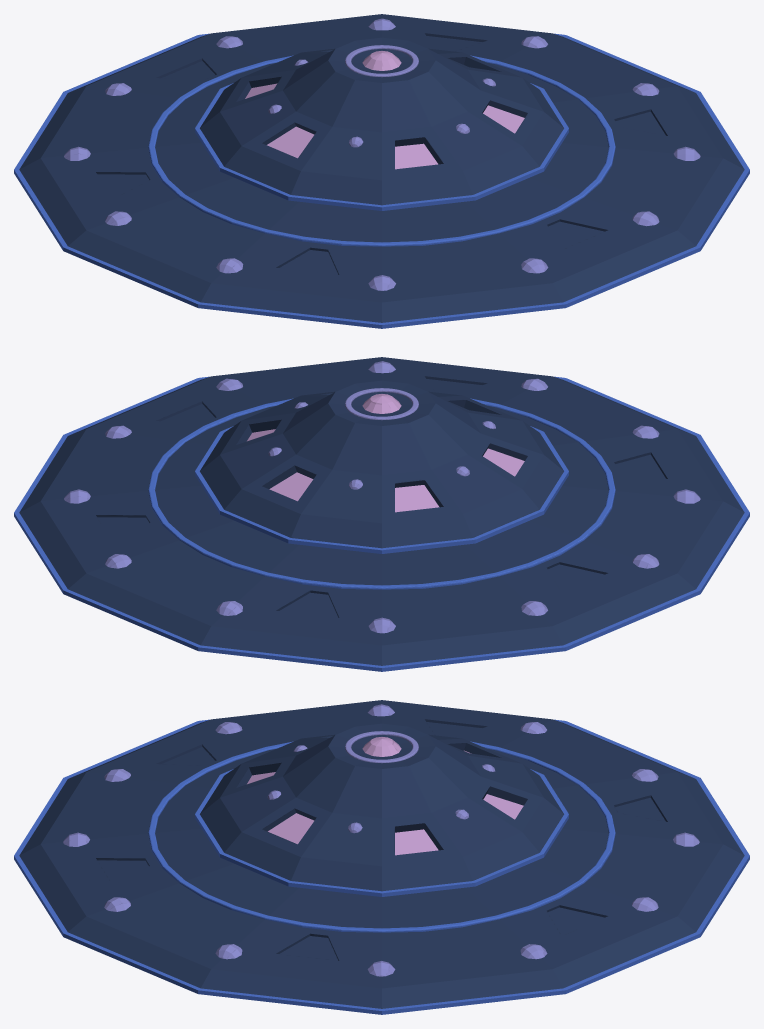
Rendered from ufo.obj.
3 views of the same model, one above another, from view 1: azimuth 30°, elevation 25°; view 2: azimuth 150°, elevation 25°; view 3: azimuth 270°, elevation 25° (orthographic).
Size of the model in its own units: 424 by 108 by 424.
Materials: 1 (1 with a texture image).
